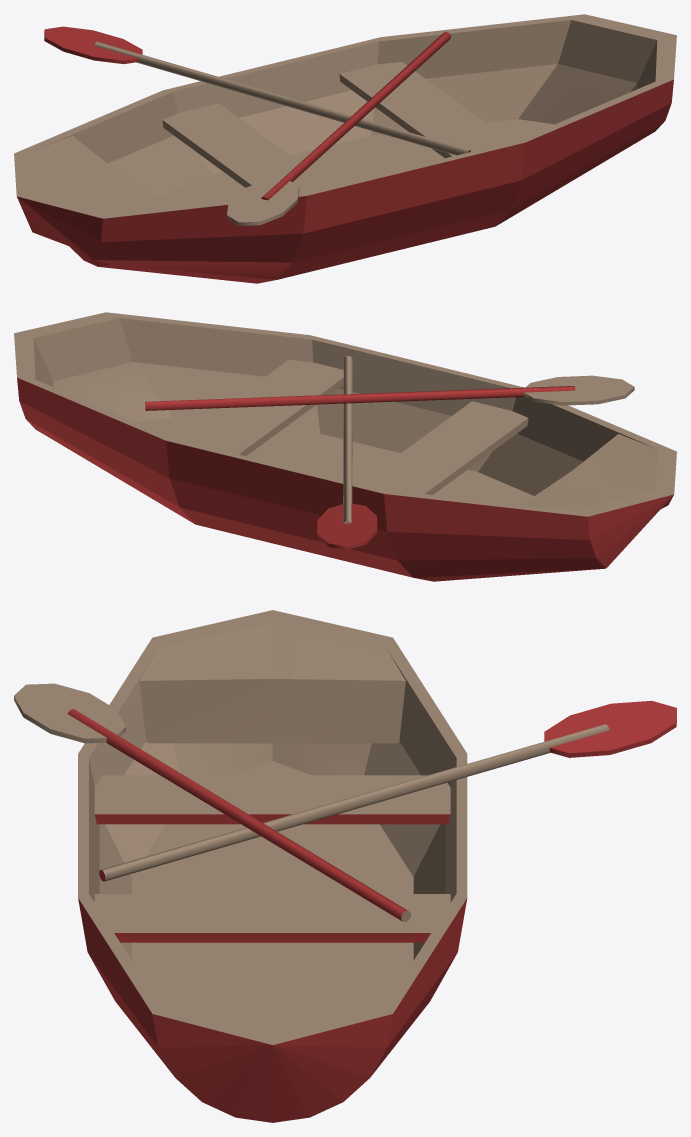
File: fa3b8a64-3831-4bee-802d-20fbc0bdfcc4.glb
3 views of the same model, one above another, from view 1: azimuth 30°, elevation 25°; view 2: azimuth 150°, elevation 25°; view 3: azimuth 270°, elevation 25° (orthographic). The views are drawn at different scales.
Parts seen in each view (by area): view 1: Sphere001; view 2: Sphere001; view 3: Sphere001.
Part boxes in pixels (<box>): Sphere001: <box>14,14,676,283</box>; Sphere001: <box>14,312,676,581</box>; Sphere001: <box>14,610,676,1122</box>.
Bounding box in the file's own units: 105 × 22.09 × 67.46.
